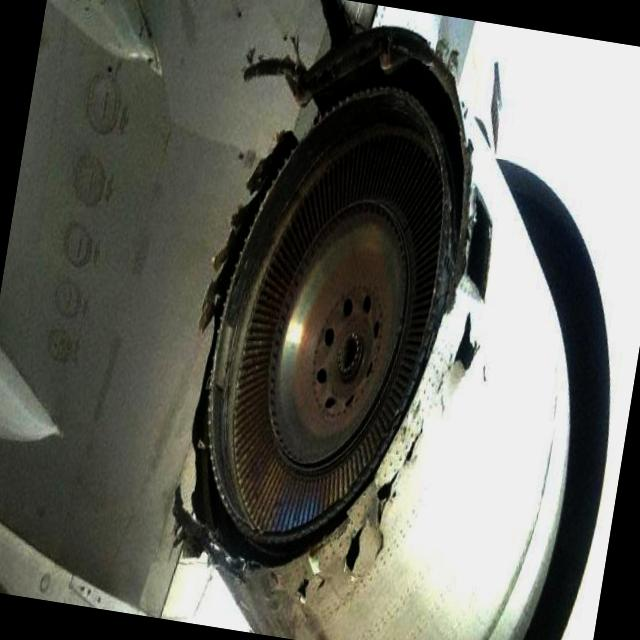crack: (288, 282, 492, 637)
